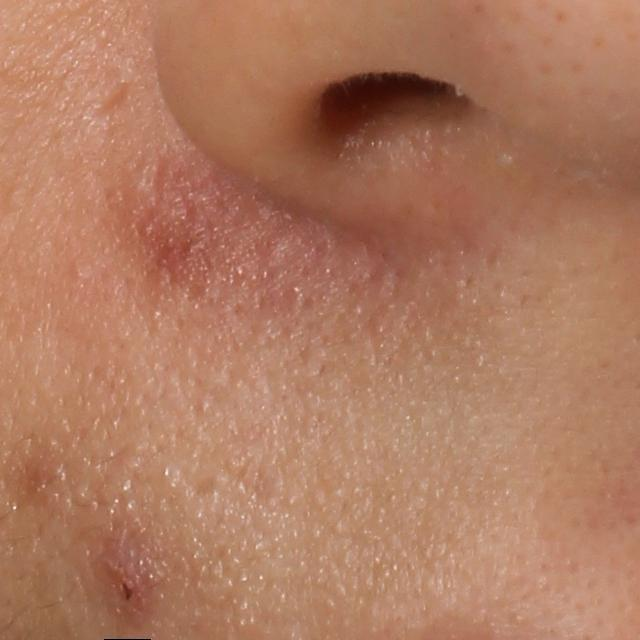atrophic_scar: (80, 84, 136, 125)
papule: (98, 543, 165, 618)
